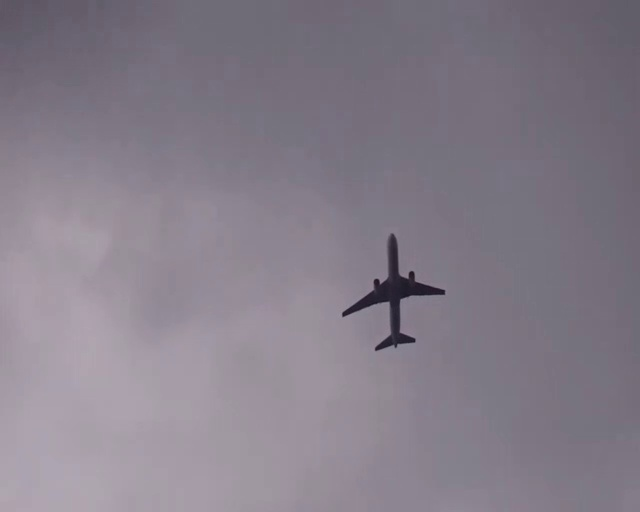AIRPLANE: (342, 232, 446, 351)
